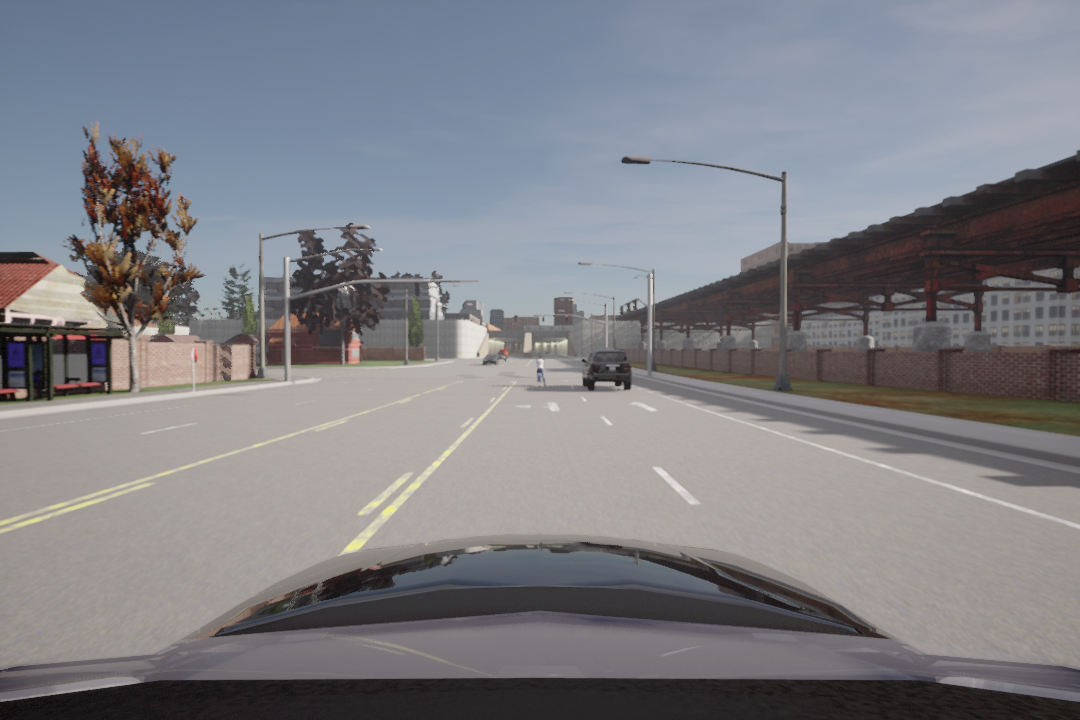RoadSign_forward: (627, 397, 657, 417)
RoadSign_forward_left: (512, 397, 567, 417)
